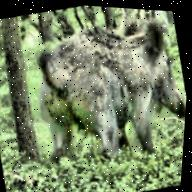boar: (26, 3, 192, 181)
